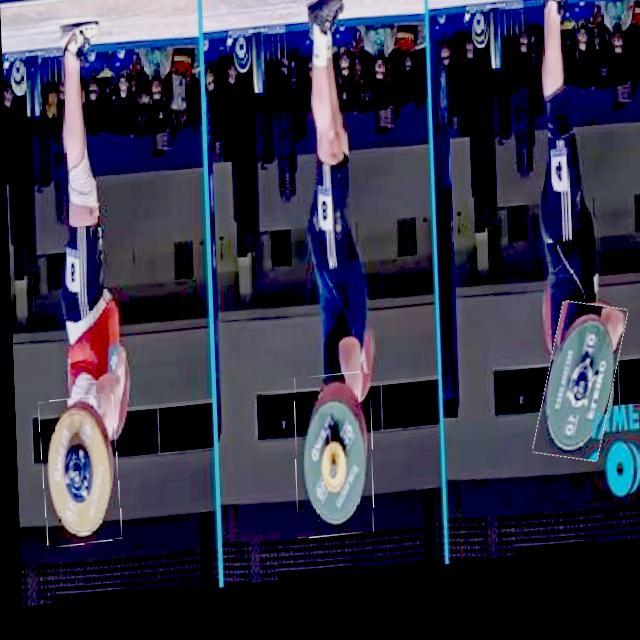barbell: (534, 312, 622, 476), (290, 379, 372, 546), (37, 396, 118, 549)
